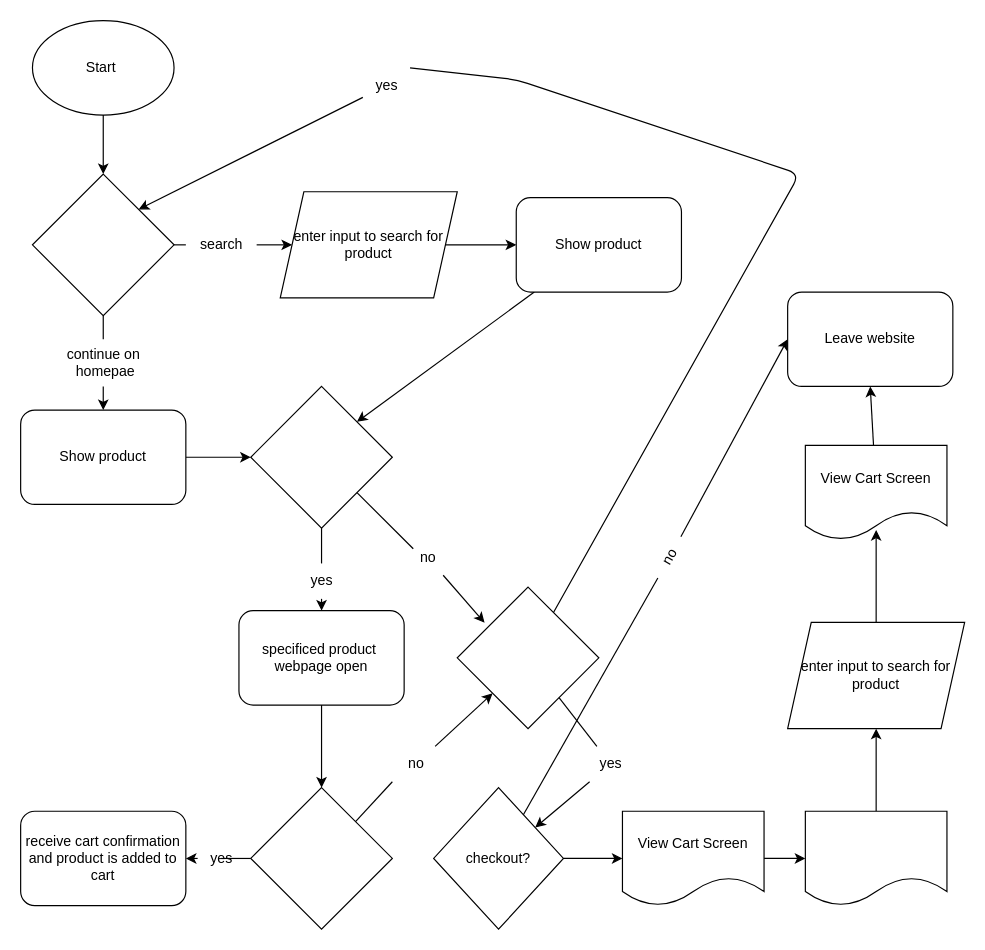
Image size: 985x950. Some labels were removed from this diagram. Here are the shapes that lost their labels. From the top down, the centre of each, then its label:
At point 102,244: "Search or explore product on home page?".
At point 321,456: "view specific product?".
At point 527,657: "continue shopping?".
At point 321,857: "add to cart?".
At point 875,858: "View Payment Screen".
